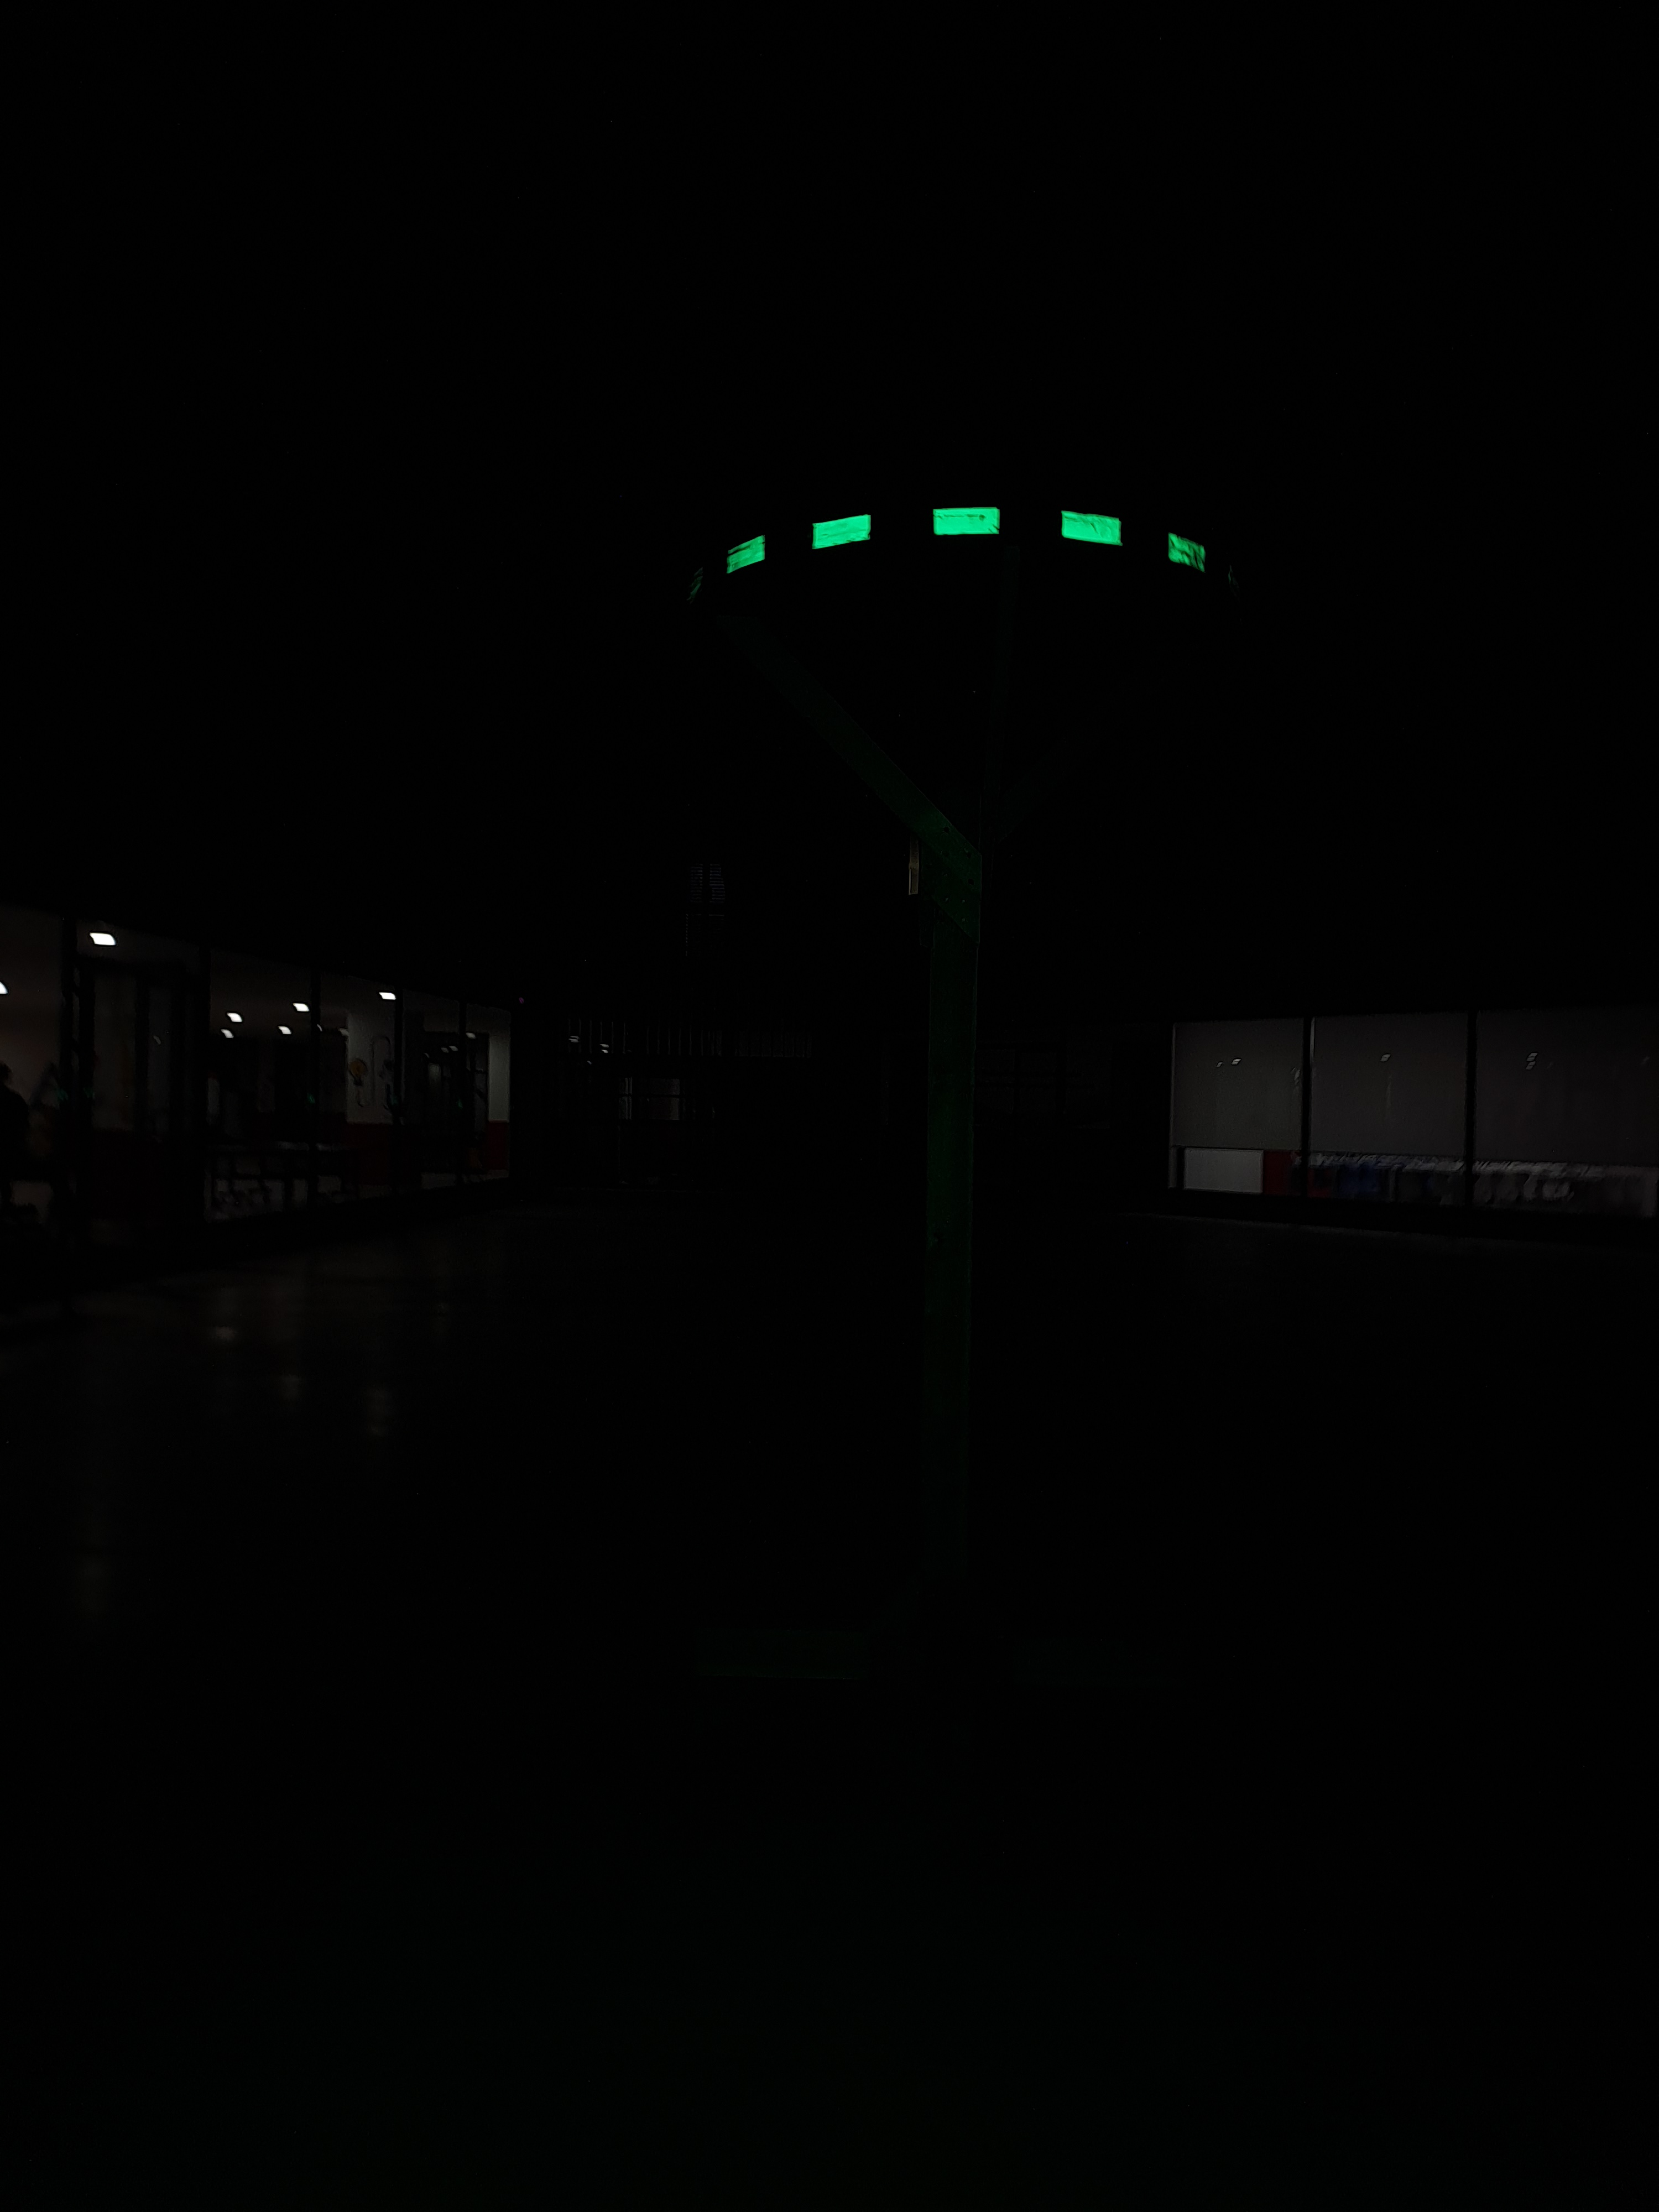hoop: (720, 496, 1209, 594)
